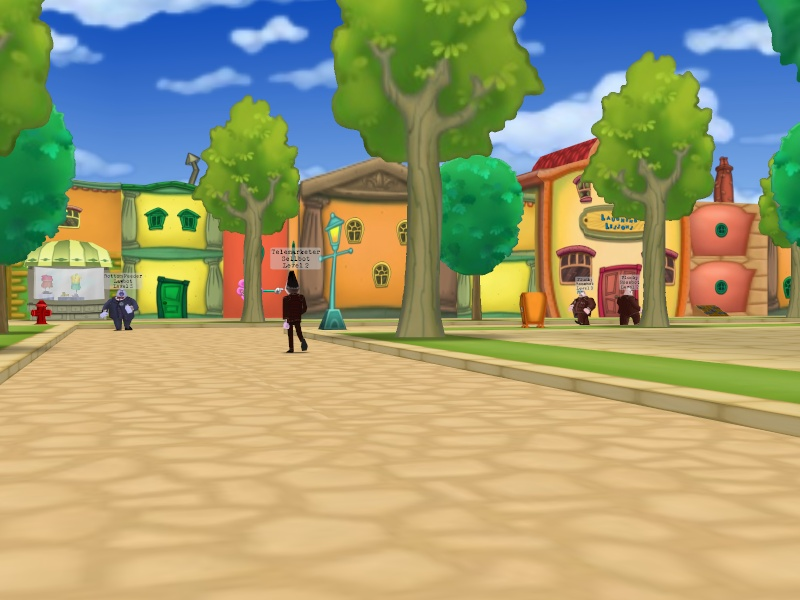cog_bb_flunky: (568, 288, 597, 327), (616, 286, 642, 326)
cog_lb_bottomfeeder: (100, 287, 140, 332)
cog_sb_telemarketer: (278, 269, 310, 356)
toon_dog: (154, 274, 190, 321)
